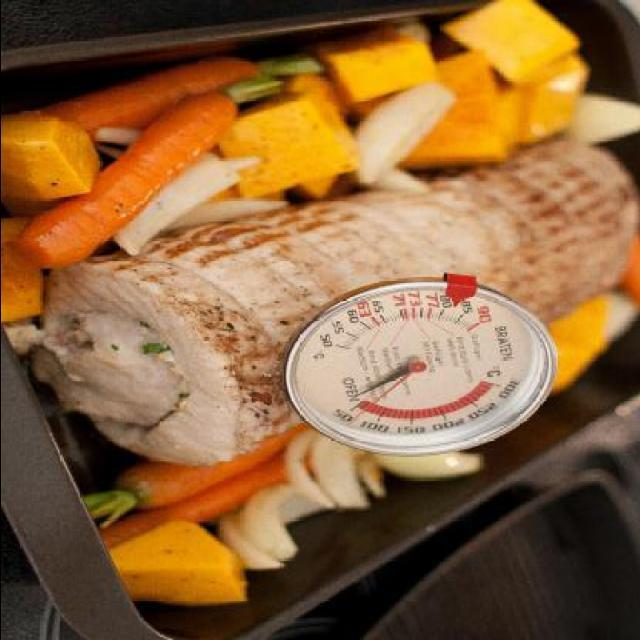Carrot: (20, 46, 274, 282), (84, 422, 310, 530), (102, 450, 304, 553)
